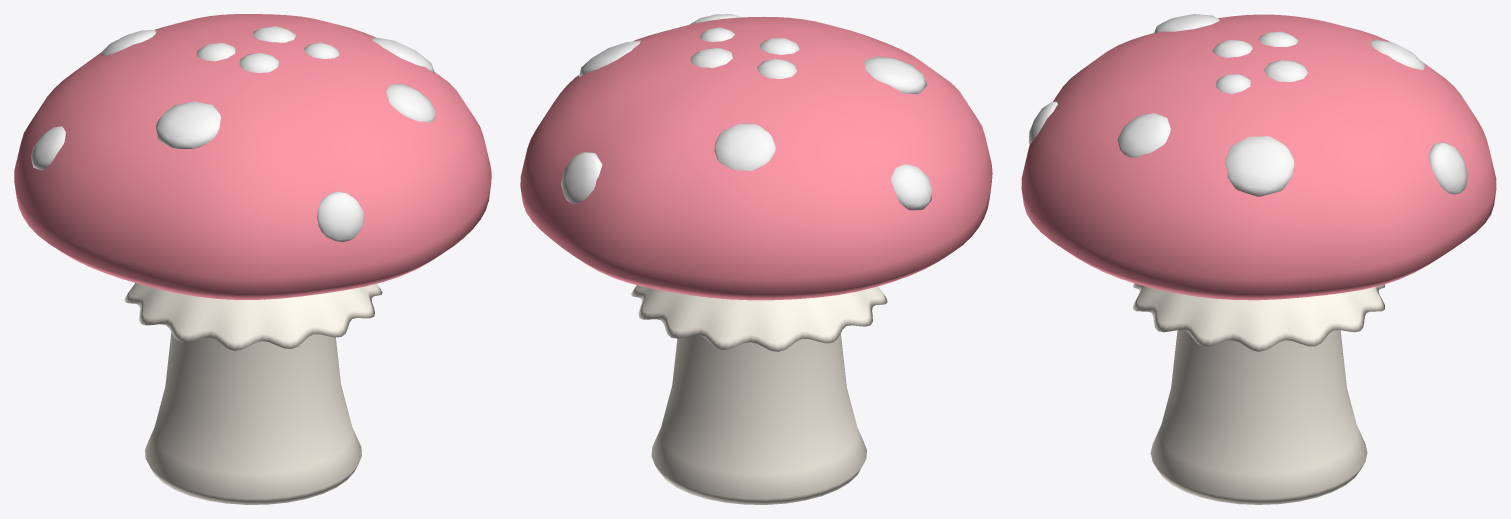
Rendered from mushroom.glb.
The picture shows the model from 3 angles, left to right: view 1: azimuth 30°, elevation 25°; view 2: azimuth 150°, elevation 25°; view 3: azimuth 270°, elevation 25°; orthographic projection.
Visible parts, largest first — view 1: MushCap, MushStem, MushSkirt, MushSpots; view 2: MushCap, MushStem, MushSkirt, MushSpots; view 3: MushCap, MushStem, MushSpots, MushSkirt.
Part boxes in pixels (bbox=[...]): MushCap: bbox=[14, 14, 491, 299]; MushStem: bbox=[145, 332, 361, 504]; MushSkirt: bbox=[124, 283, 382, 350]; MushSpots: bbox=[31, 26, 435, 242]; MushCap: bbox=[520, 16, 992, 300]; MushStem: bbox=[651, 333, 866, 504]; MushSkirt: bbox=[631, 285, 887, 351]; MushSpots: bbox=[561, 14, 932, 210]; MushCap: bbox=[1021, 14, 1496, 300]; MushStem: bbox=[1150, 330, 1367, 504]; MushSpots: bbox=[1028, 14, 1467, 196]; MushSkirt: bbox=[1133, 283, 1384, 351].
Size of the model in its own units: 2.11 by 2.02 by 2.1.
